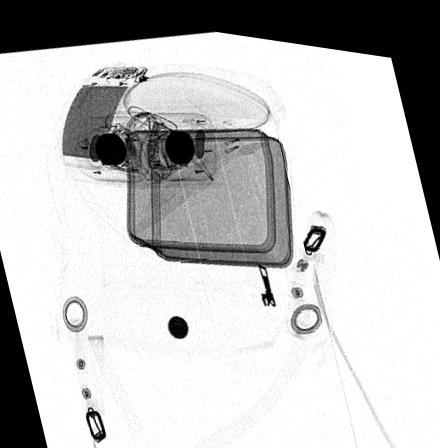Powerbank: (58, 60, 148, 166)
